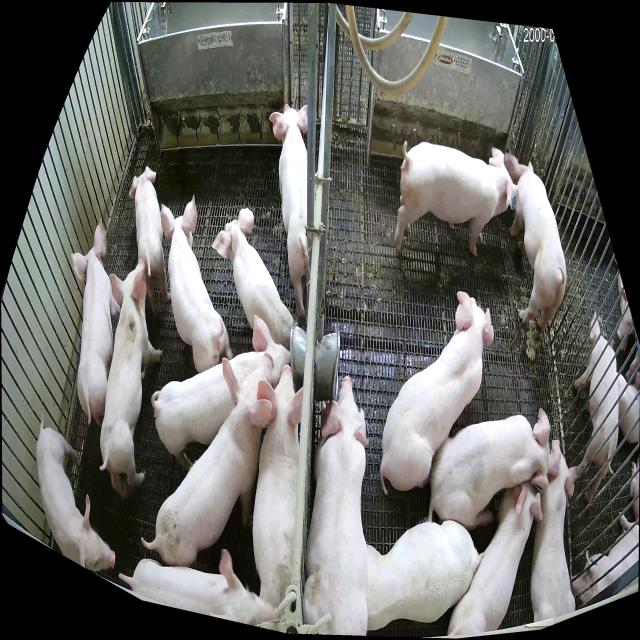pig: (140, 353, 274, 567), (381, 291, 494, 494), (152, 314, 291, 469), (304, 375, 368, 638), (99, 258, 162, 498), (429, 408, 550, 530), (394, 140, 518, 257), (448, 482, 542, 636), (364, 519, 481, 630), (161, 194, 232, 372), (37, 414, 115, 571), (253, 365, 303, 609), (119, 550, 275, 625), (212, 208, 293, 347), (504, 154, 566, 329), (71, 219, 121, 426), (530, 440, 577, 623), (269, 103, 308, 316), (129, 166, 170, 313)
